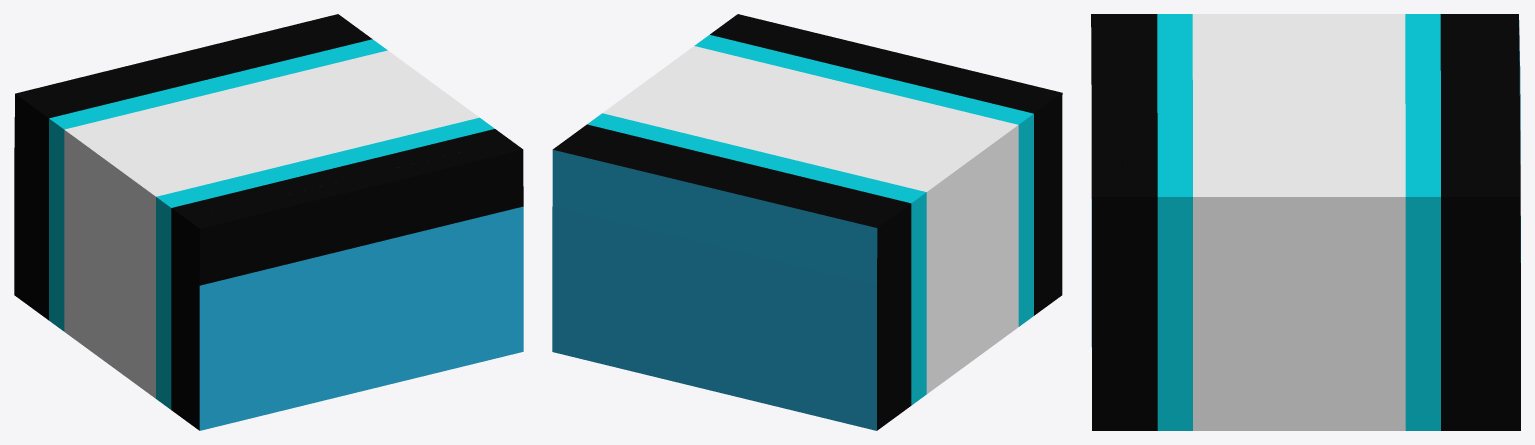
File: Ground.fbx
3 views of the same model, side by side, from view 1: azimuth 30°, elevation 25°; view 2: azimuth 150°, elevation 25°; view 3: azimuth 270°, elevation 25° (orthographic). The views are drawn at different scales.
Visible parts, largest first — view 1: Ground; view 2: Ground; view 3: Ground.
Boxes of the visible parts, bbox=[...] form: Ground: bbox=[14, 14, 523, 430]; Ground: bbox=[552, 14, 1062, 430]; Ground: bbox=[1091, 14, 1520, 430].
Size of the model in its own units: 1494 by 891 by 1483.
